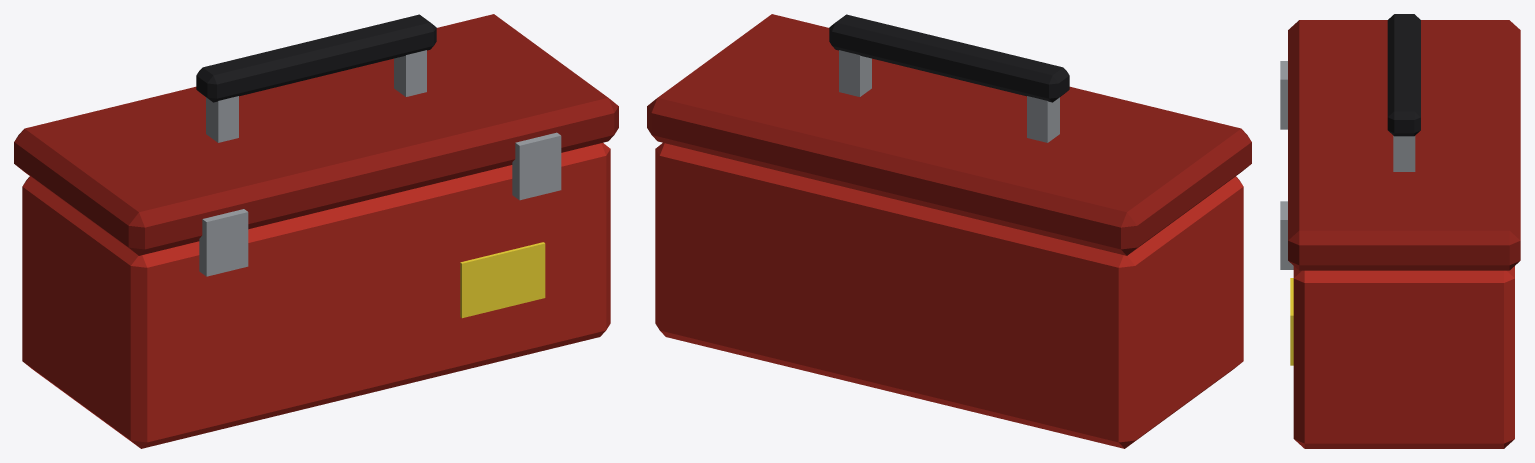
The model's file is kit.toolbox.glb.
3 views of the same model, side by side, from view 1: azimuth 30°, elevation 25°; view 2: azimuth 150°, elevation 25°; view 3: azimuth 270°, elevation 25° (orthographic). The views are drawn at different scales.
Parts seen in each view (by area): view 1: body, lid, handle, sticker, latch-1, latch1, upright-1, upright1; view 2: body, lid, handle, upright-1, upright1; view 3: lid, body, handle, upright1, latch1, latch-1, sticker.
Part boxes in pixels (x1,y1,x2,y2): body: (22,143,610,448); lid: (14,14,618,255); handle: (196,14,436,102); sticker: (460,242,545,318); latch-1: (199,209,248,276); latch1: (512,132,561,200); upright-1: (206,96,238,142); upright1: (394,50,426,96); body: (655,143,1243,448); lid: (647,14,1251,255); handle: (829,14,1069,102); upright-1: (1027,96,1059,142); upright1: (839,50,871,96); lid: (1288,20,1520,270); body: (1293,266,1514,448); handle: (1387,14,1420,136); upright1: (1393,136,1415,171); latch1: (1280,201,1293,269); latch-1: (1280,61,1287,129); sticker: (1290,278,1293,365).
Bounding box in the file's own units: 0.47 × 0.2825 × 0.217.
